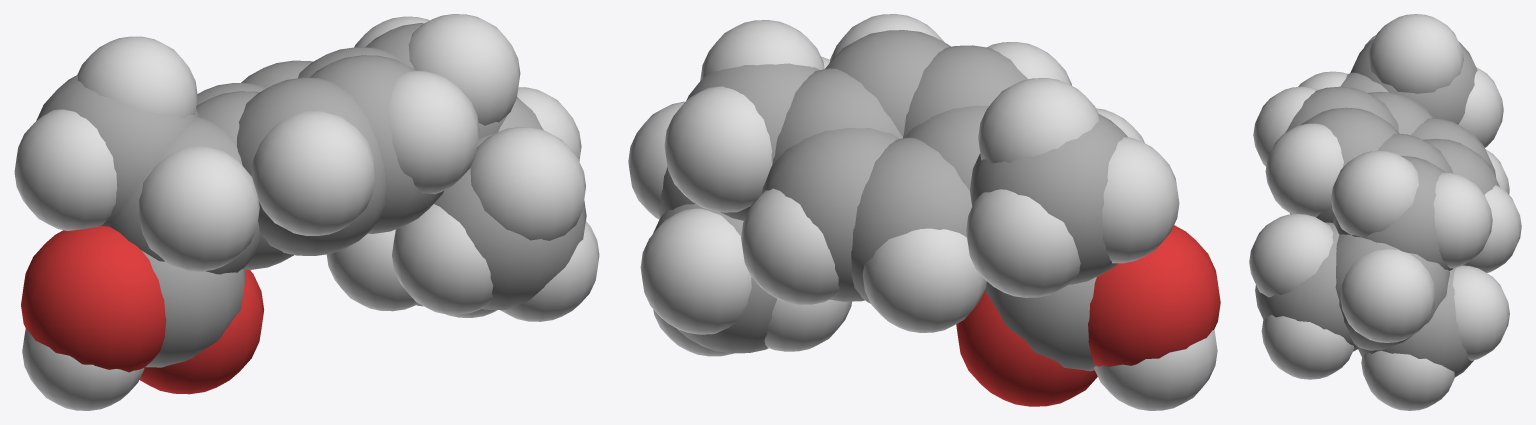
Rendered from ibuprofen-cpk.glb.
The picture shows the model from 3 angles, left to right: view 1: azimuth 30°, elevation 25°; view 2: azimuth 150°, elevation 25°; view 3: azimuth 270°, elevation 25°; orthographic projection. The views are drawn at different scales.
Visible parts, largest first — view 1: ibuprofen-cpk; view 2: ibuprofen-cpk; view 3: ibuprofen-cpk.
Boxes of the visible parts, x1,y1,x2,y2 form: ibuprofen-cpk: (14, 14, 599, 410); ibuprofen-cpk: (628, 14, 1220, 410); ibuprofen-cpk: (1249, 14, 1521, 410).
Size of the model in its own units: 12.14 by 7.26 by 6.75.
